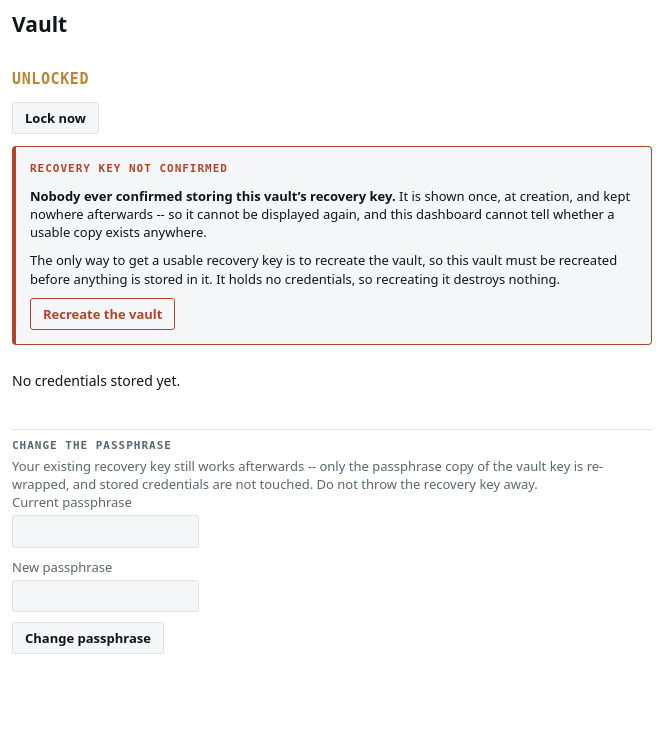
it: VaultPanel › a vault whose recovery key was never confirmed as stored › while the vault is empty, recreation is offered › backing out recreates nothing
Click the button with test id "recreate-vault": click(103, 314) [30, 298, 176, 330]
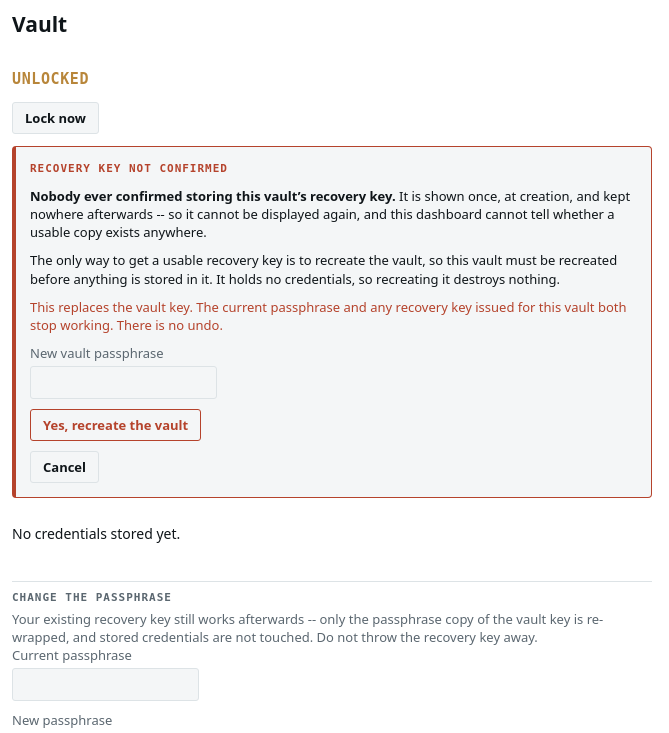
Click the button with test id "cancel-recreate": click(64, 467) [30, 451, 99, 483]
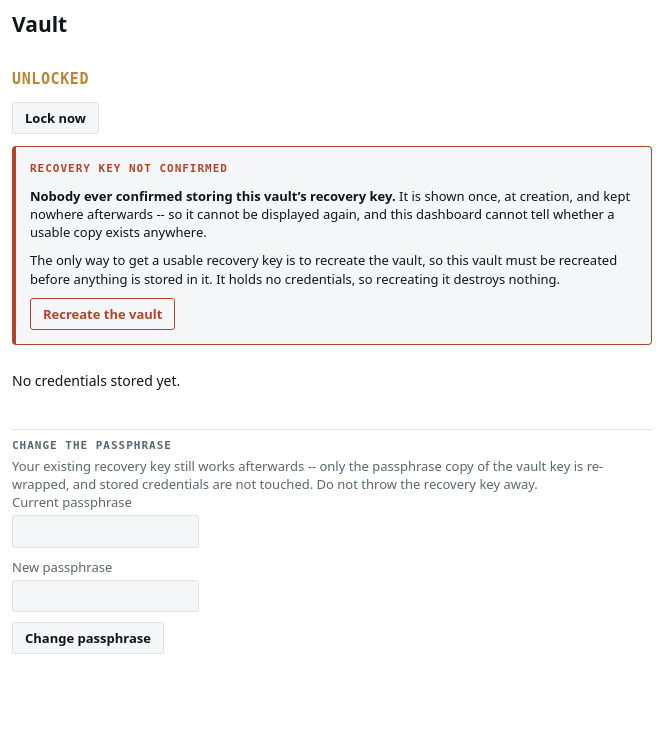
Expected: the button with test id "recreate-vault" is shown, [30, 298, 176, 330]
Result: the button with test id "confirm-recreate" is gone
